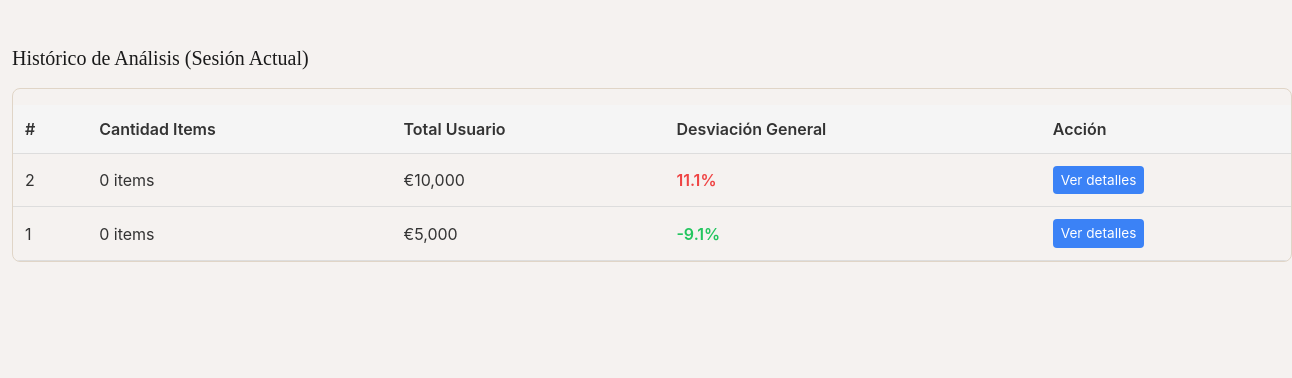
Scenario: AnalisisHistorico › muestra detalles al click "Ver detalles"
Click the button "Ver detalles" in the row of "10,000" at x=1098, y=180, box [1053,166,1144,194]
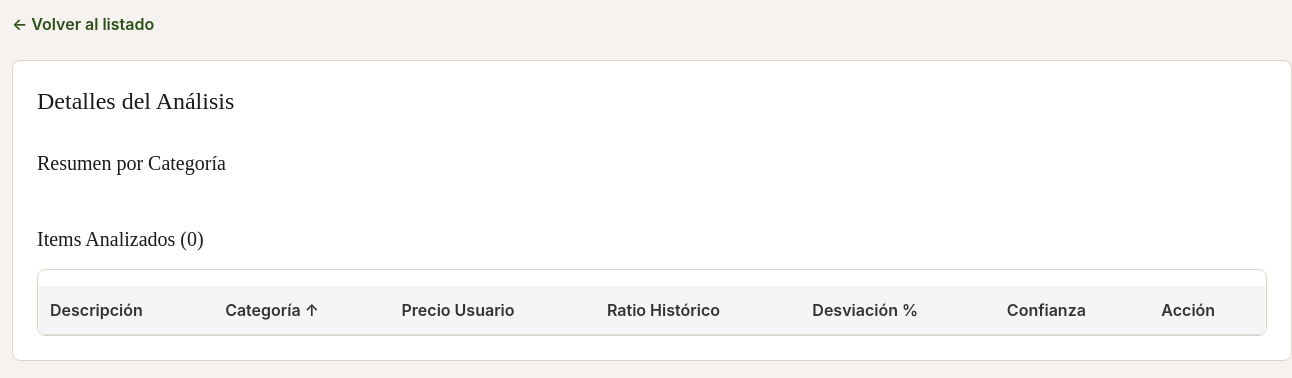
Expected: the heading "Detalles del Análisis" is shown, [37,88,234,114]
Expected: the button "← Volver al listado" is shown, [12,12,154,36]
